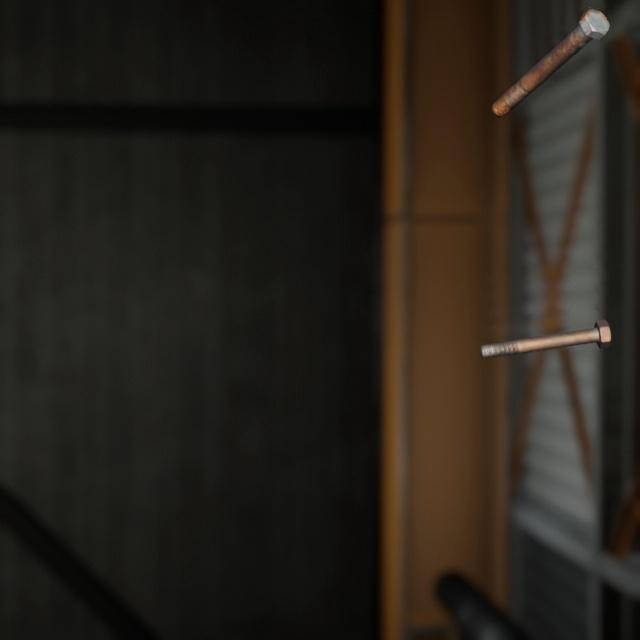bolt: (487, 0, 614, 111), (475, 296, 615, 344)
